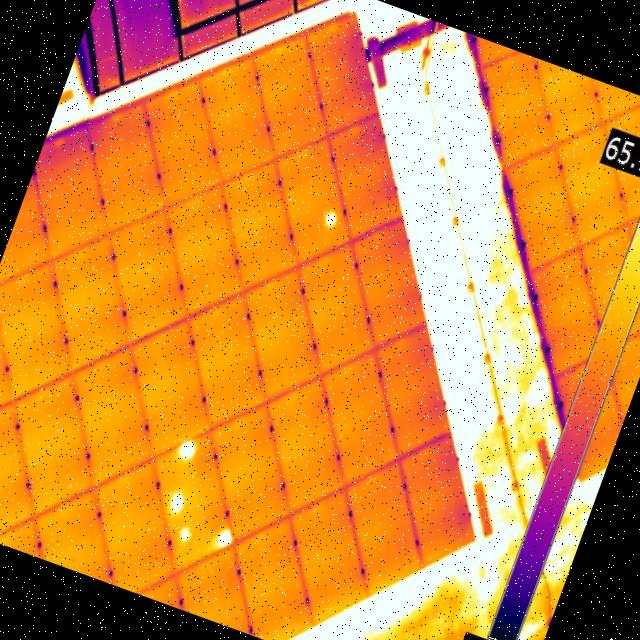Hotspot: (211, 525, 237, 555), (174, 437, 198, 465), (165, 490, 188, 518), (322, 210, 340, 229), (176, 524, 193, 544)
